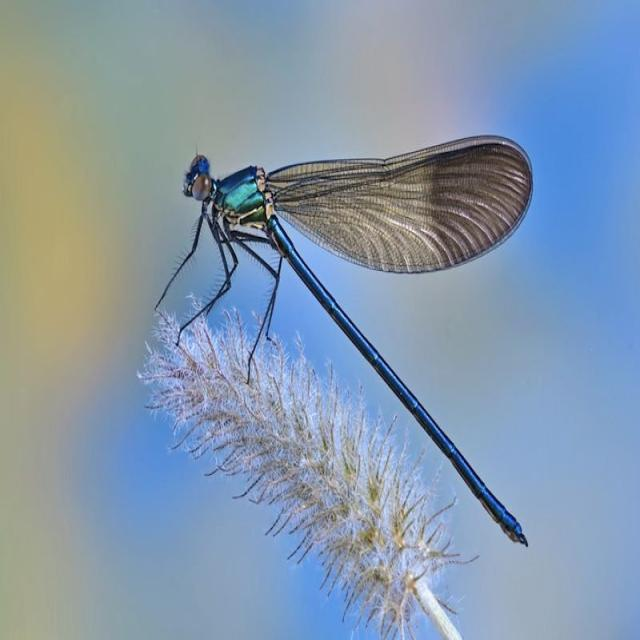dragonfly: (183, 136, 532, 545)
